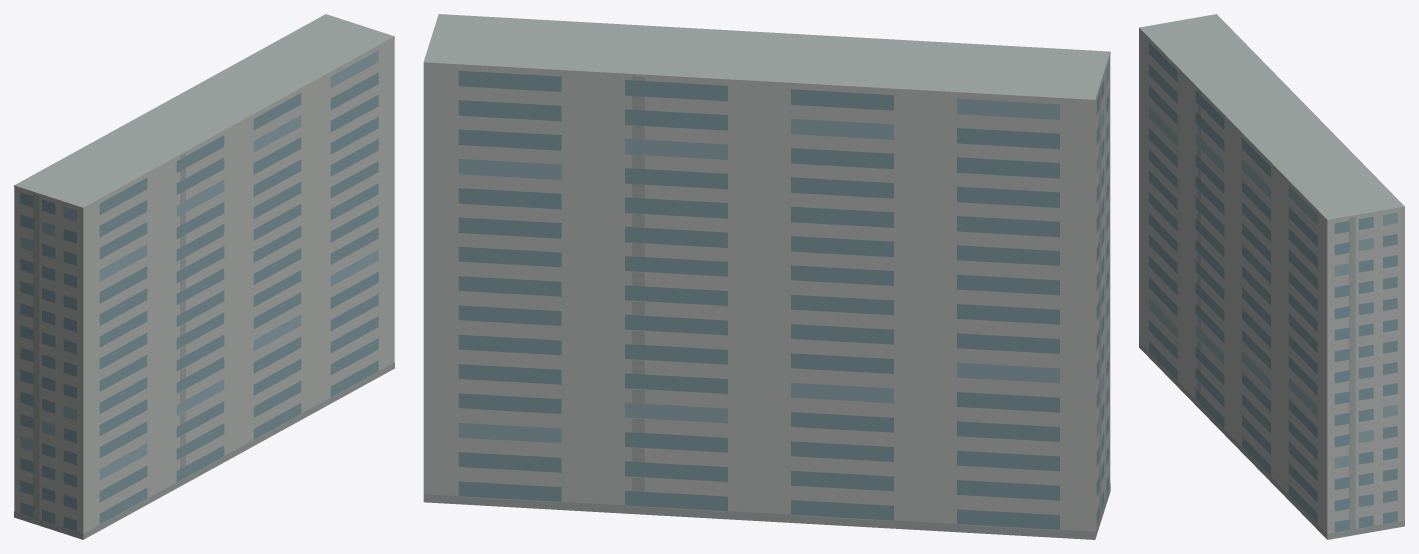
File: residential-90c470b3-04b6-4b28-9e26-b73e8c10d8e1.glb
3 renders of one model, left to right at view 1: azimuth 30°, elevation 25°; view 2: azimuth 150°, elevation 25°; view 3: azimuth 270°, elevation 25°, orthographic. The views are drawn at different scales.
Visible parts, largest first — view 1: residential-90c470b3-04b6-4b28-9e26-b73e8c10d8e1.tmp; view 2: residential-90c470b3-04b6-4b28-9e26-b73e8c10d8e1.tmp; view 3: residential-90c470b3-04b6-4b28-9e26-b73e8c10d8e1.tmp.
Part boxes in pixels (bbox=[...]): residential-90c470b3-04b6-4b28-9e26-b73e8c10d8e1.tmp: bbox=[14, 14, 394, 539]; residential-90c470b3-04b6-4b28-9e26-b73e8c10d8e1.tmp: bbox=[423, 14, 1110, 539]; residential-90c470b3-04b6-4b28-9e26-b73e8c10d8e1.tmp: bbox=[1139, 14, 1404, 539].
Size of the model in its own units: 63.16 by 45.75 by 34.44.
